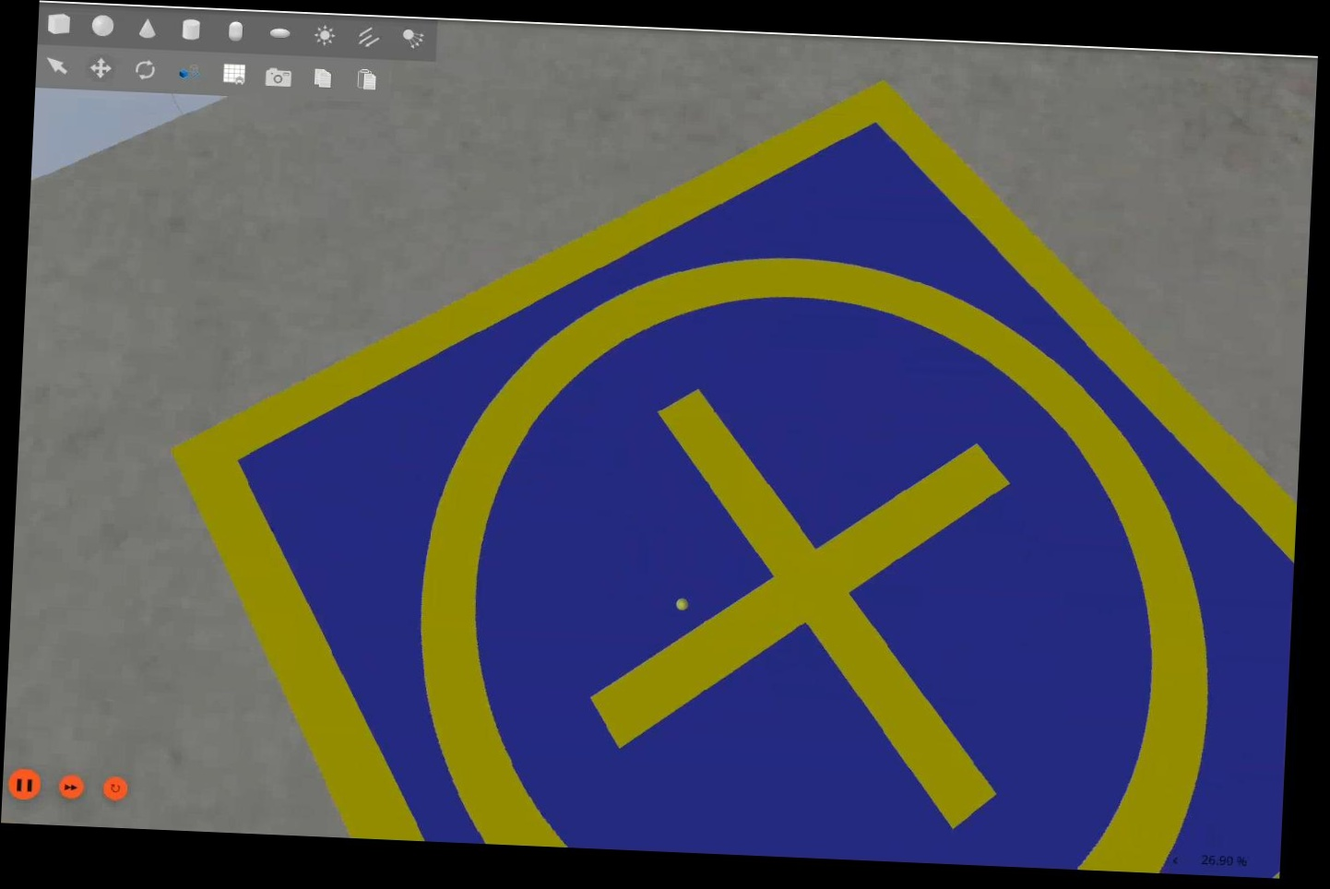small_base: (149, 50, 1317, 880)
